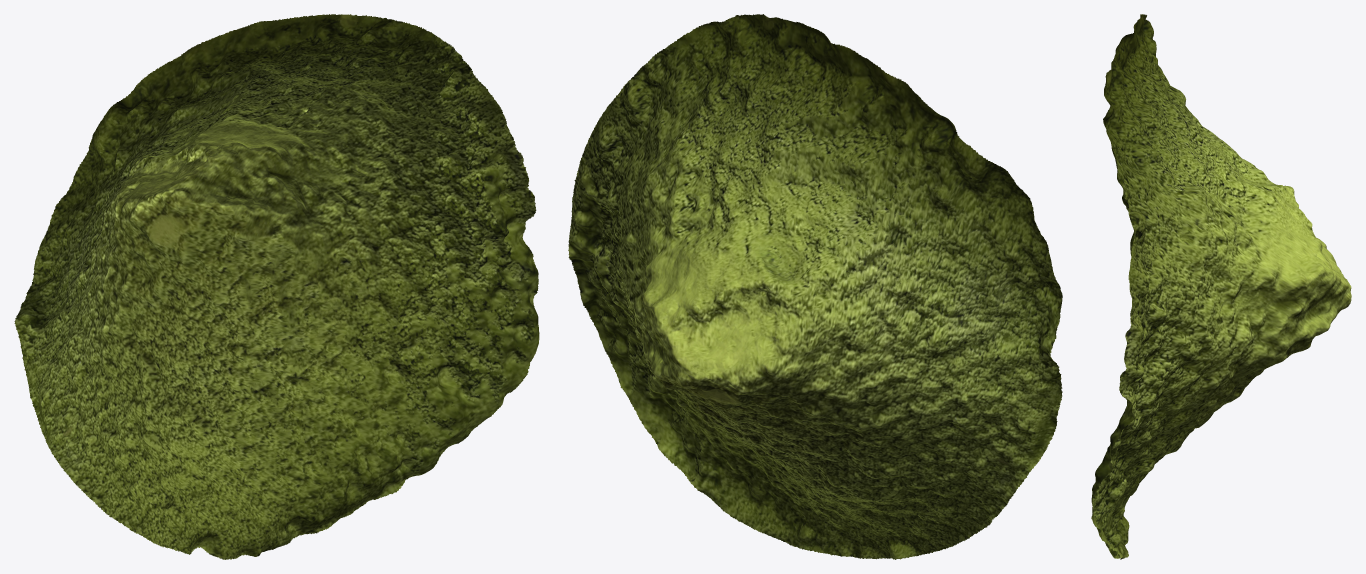
Rendered from powder.fbx.
The picture shows the model from 3 angles, left to right: view 1: azimuth 30°, elevation 25°; view 2: azimuth 150°, elevation 25°; view 3: azimuth 270°, elevation 25°; orthographic projection. The views are drawn at different scales.
Parts seen in each view (by area): view 1: Stereo textured mesh; view 2: Stereo textured mesh; view 3: Stereo textured mesh.
Boxes of the visible parts, x1,y1,x2,y2 form: Stereo textured mesh: (14,14,539,559); Stereo textured mesh: (568,14,1062,559); Stereo textured mesh: (1091,14,1351,559).
Size of the model in its own units: 809 by 809 by 384.
